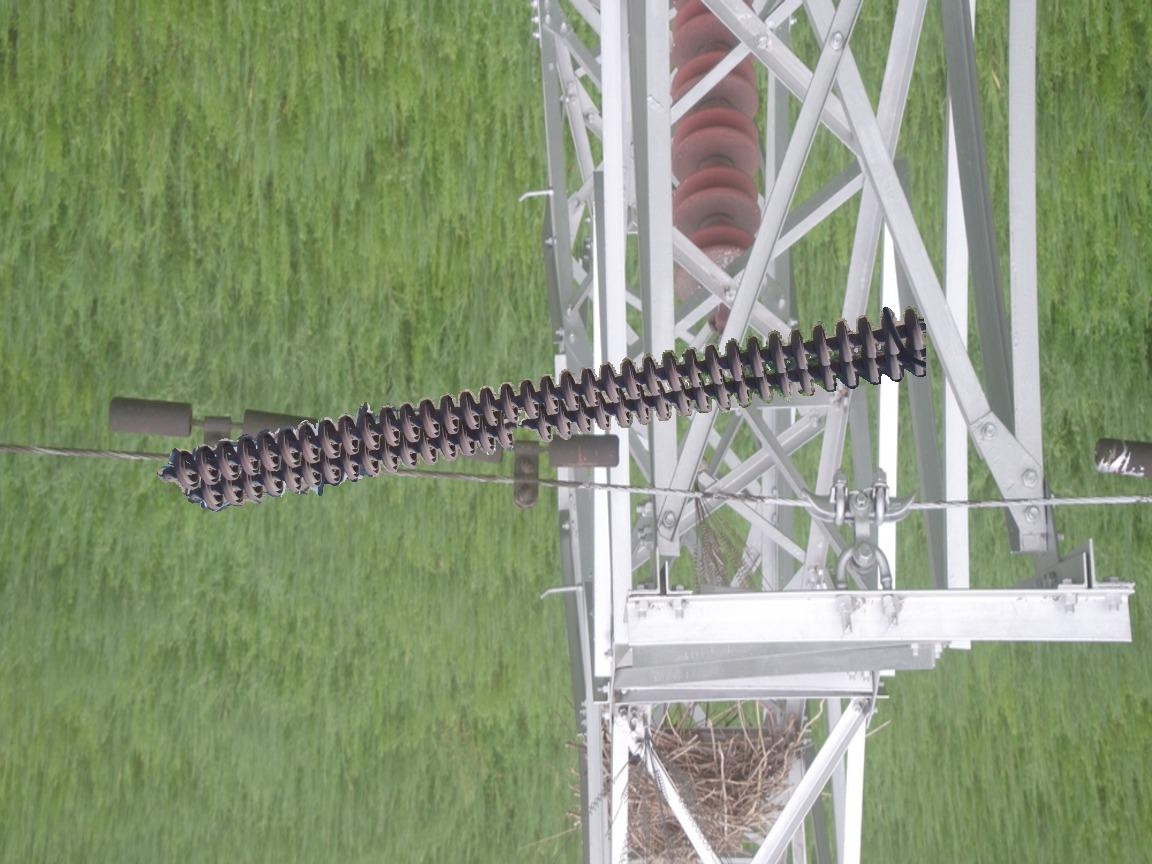insulator: (166, 302, 935, 513), (662, 1, 772, 295)
insulator_stringdrop: (493, 403, 555, 455)
